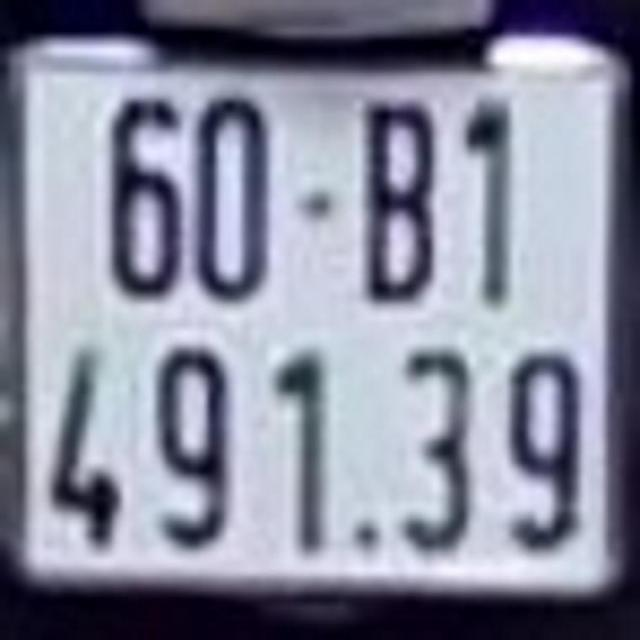0: (194, 99, 268, 288)
1: (276, 340, 330, 546), (463, 108, 513, 300)
3: (400, 340, 472, 548)
4: (42, 354, 126, 546)
6: (108, 100, 183, 286)
9: (503, 343, 581, 556), (152, 343, 226, 554)
B: (368, 104, 434, 298)
